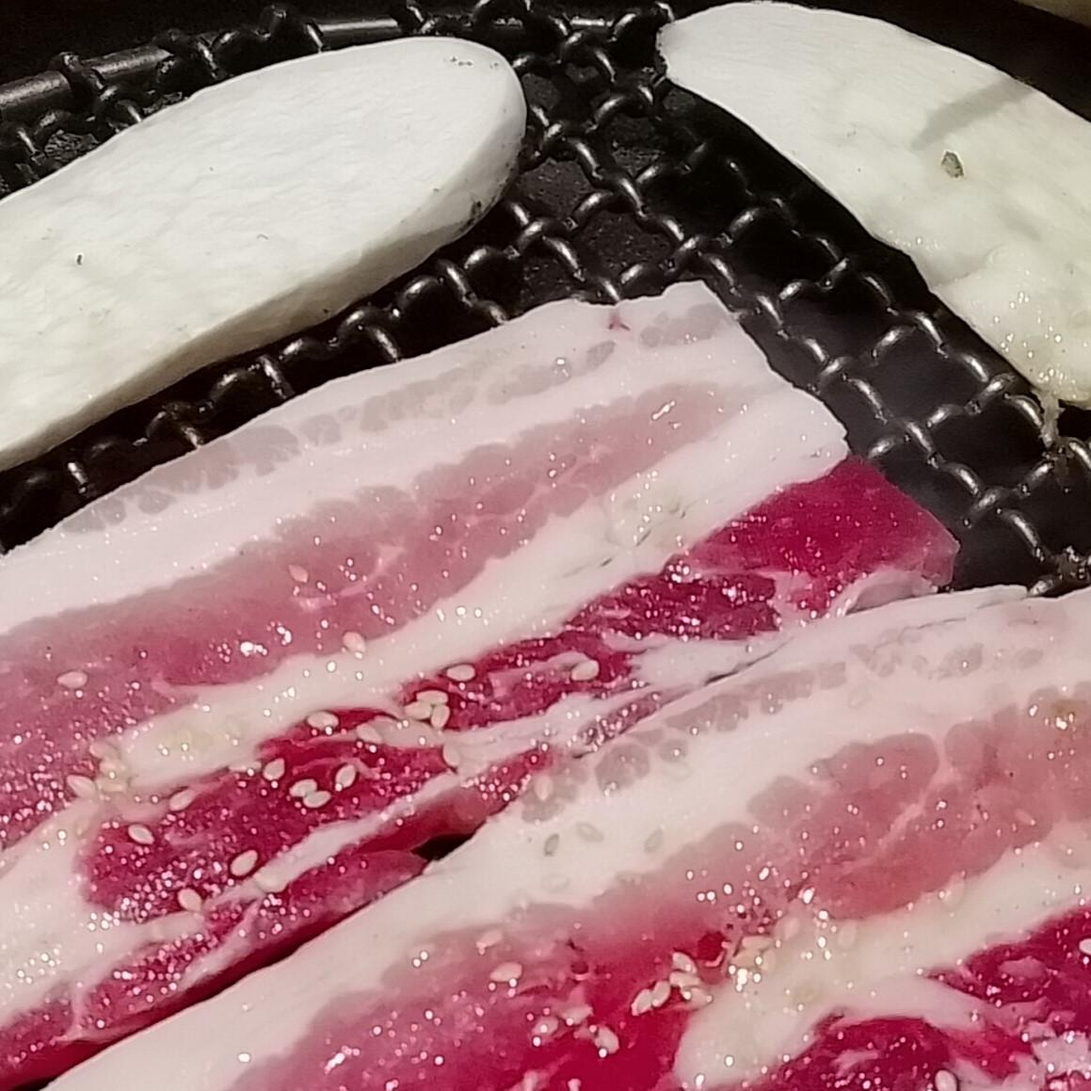Undercooked: (0, 284, 1090, 1090)
